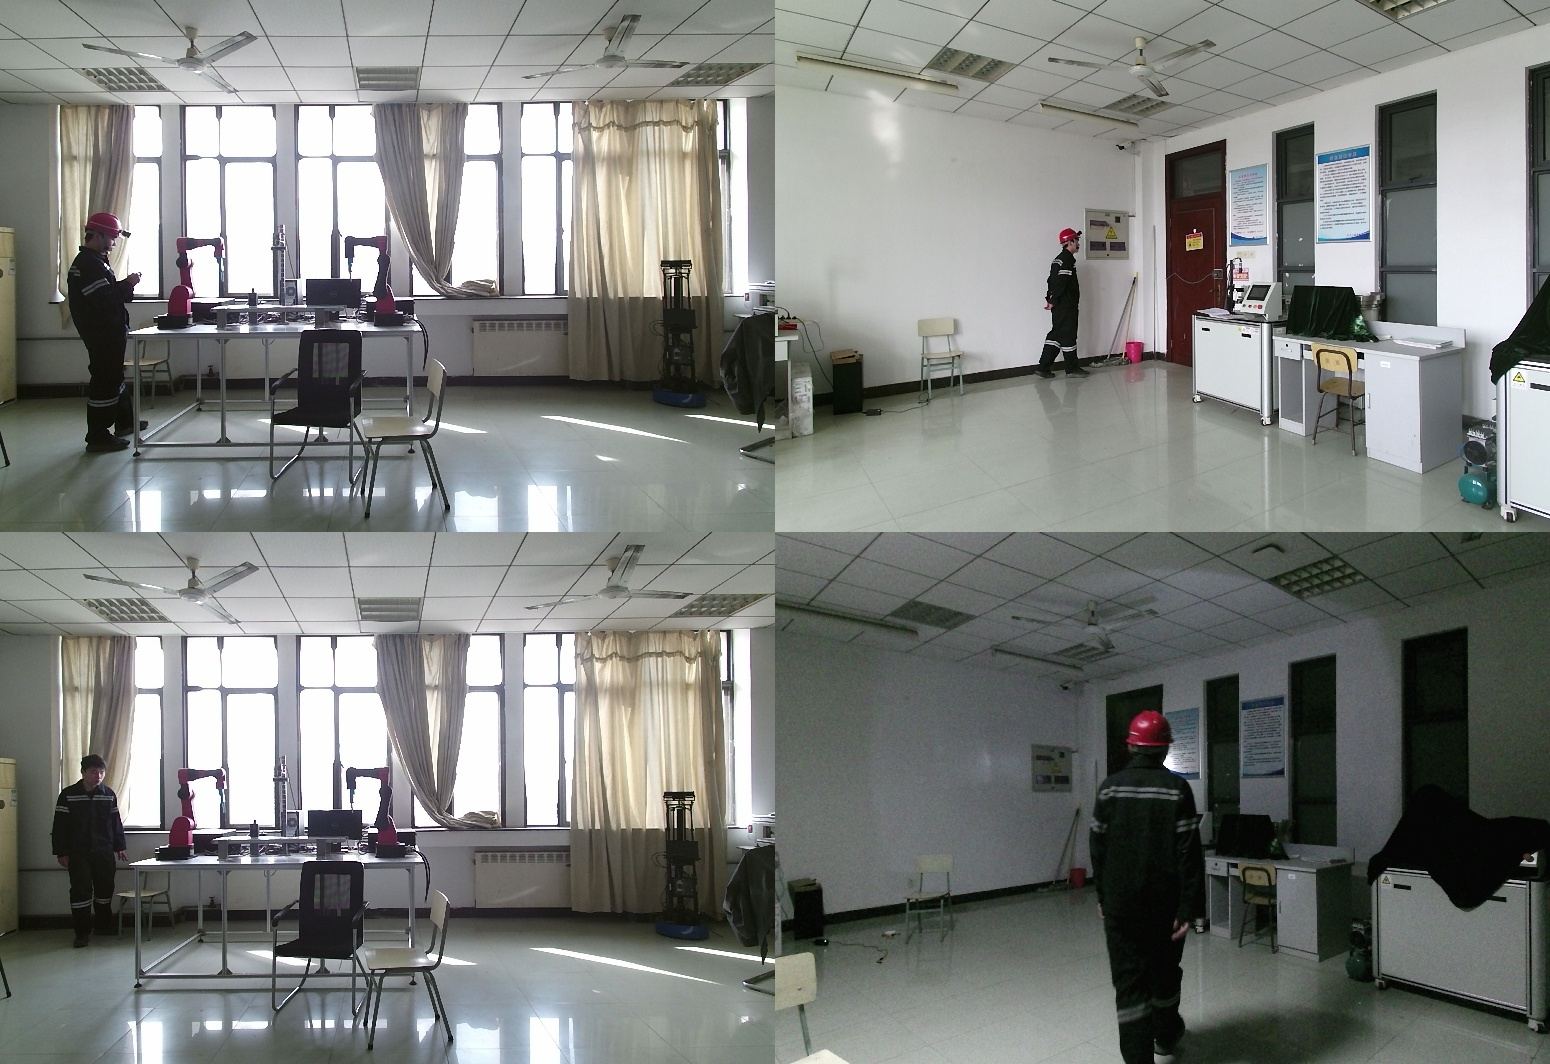person: (1081, 706, 1230, 1064), (66, 213, 142, 453), (42, 756, 127, 947), (1035, 229, 1086, 382)
